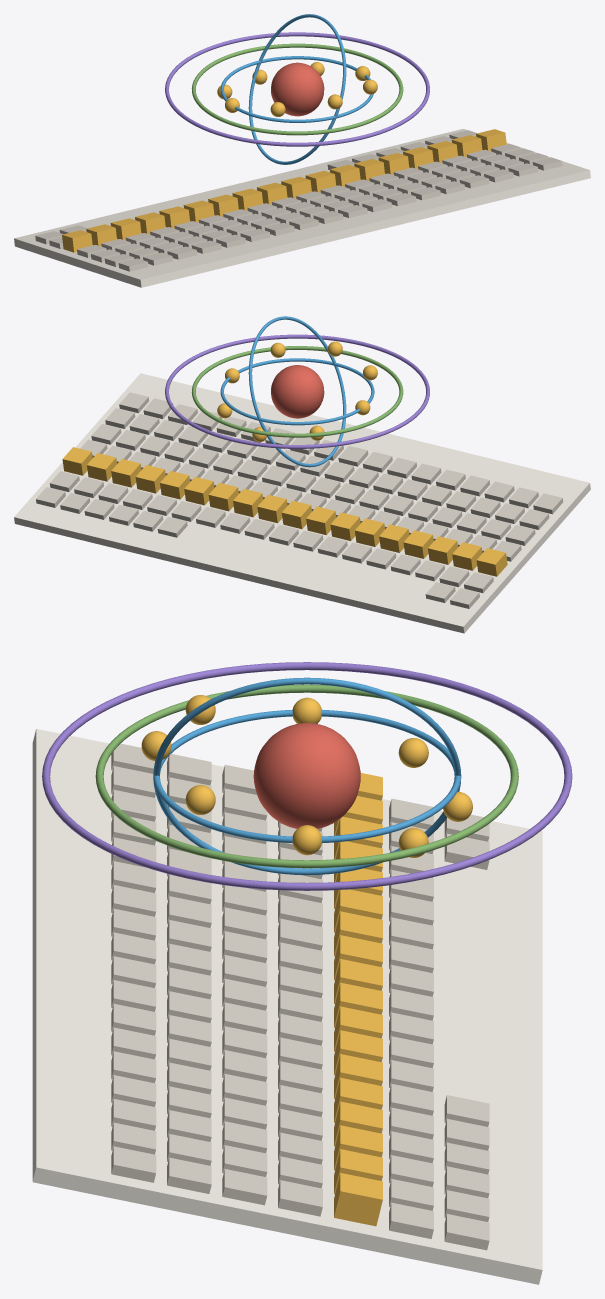
Rendered from chem-periodic-period.glb.
The picture shows the model from 3 angles, top to bottom: view 1: azimuth 30°, elevation 25°; view 2: azimuth 150°, elevation 25°; view 3: azimuth 270°, elevation 25°; orthographic projection. The views are drawn at different scales.
Visible parts, largest first — view 1: table-backing, period-shell-level-two, nucleus, period-shell-level-one, shell-y, shell-x, highlight-cell-1-3, highlight-cell-10-3, highlight-cell-2-3, highlight-cell-5-3, highlight-cell-7-3, highlight-cell-3-3 (+12 smaller); view 2: table-backing, period-shell-level-two, nucleus, period-shell-level-one, shell-y, shell-x, highlight-cell-1-3, highlight-cell-16-3, highlight-cell-9-3, highlight-cell-18-3, highlight-cell-4-3, highlight-cell-6-3 (+78 smaller); view 3: table-backing, period-shell-level-two, nucleus, period-shell-level-one, shell-y, shell-x, highlight-cell-18-3, cell-18-7, cell-18-1, cell-18-5, cell-18-4, cell-18-2 (+93 smaller).
Part boxes in pixels (x1,y1,x2,y2): table-backing: [14, 129, 590, 287]; period-shell-level-two: [165, 32, 429, 146]; nucleus: [271, 62, 324, 116]; period-shell-level-one: [191, 43, 403, 135]; shell-y: [248, 14, 346, 164]; shell-x: [220, 56, 373, 122]; highlight-cell-1-3: [62, 230, 92, 252]; highlight-cell-10-3: [281, 176, 311, 198]; highlight-cell-2-3: [86, 224, 116, 246]; highlight-cell-5-3: [159, 206, 189, 228]; highlight-cell-7-3: [208, 194, 238, 216]; highlight-cell-3-3: [110, 218, 141, 240]; table-backing: [14, 373, 590, 633]; period-shell-level-two: [165, 334, 429, 448]; nucleus: [271, 365, 324, 418]; period-shell-level-one: [191, 346, 403, 437]; shell-y: [248, 316, 346, 467]; shell-x: [220, 358, 374, 425]; highlight-cell-1-3: [476, 548, 507, 576]; highlight-cell-16-3: [111, 459, 141, 487]; highlight-cell-9-3: [281, 500, 311, 528]; highlight-cell-18-3: [62, 447, 92, 475]; highlight-cell-4-3: [403, 530, 433, 558]; highlight-cell-6-3: [355, 518, 384, 546]; table-backing: [32, 729, 542, 1284]; period-shell-level-two: [42, 662, 572, 890]; nucleus: [253, 723, 360, 828]; period-shell-level-one: [95, 684, 518, 868]; shell-y: [153, 677, 461, 875]; shell-x: [153, 709, 461, 842]; highlight-cell-18-3: [334, 1173, 382, 1226]; cell-18-7: [111, 1146, 156, 1182]; cell-18-1: [444, 1214, 489, 1250]; cell-18-5: [222, 1169, 267, 1205]; cell-18-4: [278, 1180, 322, 1216]; cell-18-2: [389, 1202, 433, 1238].
Size of what is drawn, in the model's own units: 3.1 by 1.37 by 1.61.
